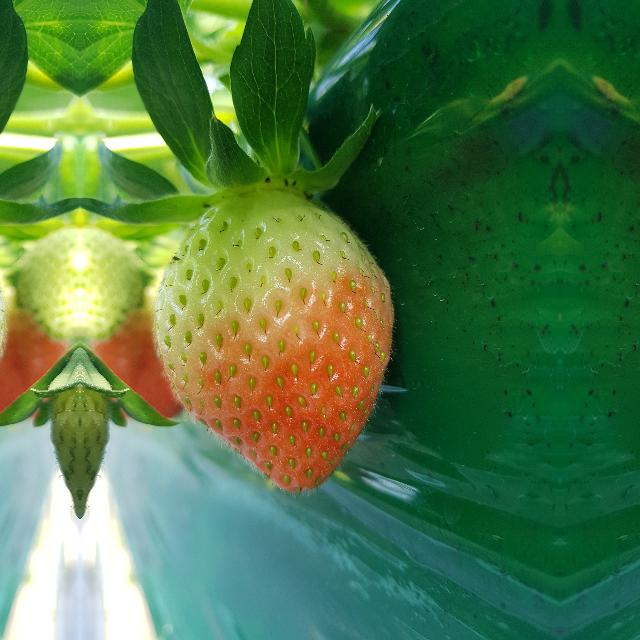Health_50: (153, 188, 395, 494)
